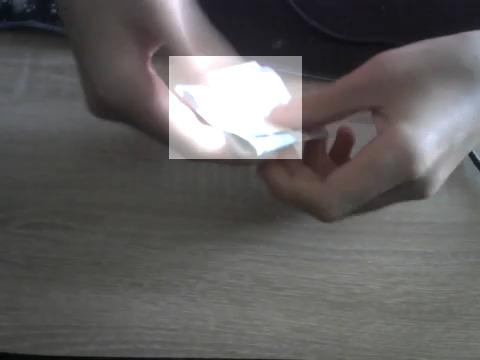20leva: (169, 56, 302, 159)
